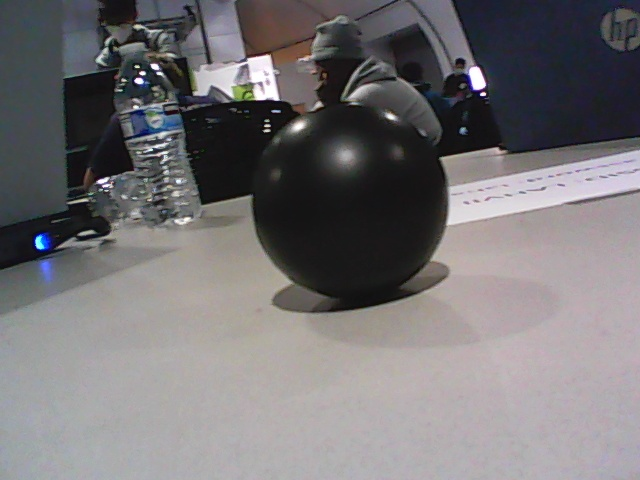ball: (252, 103, 448, 301)
